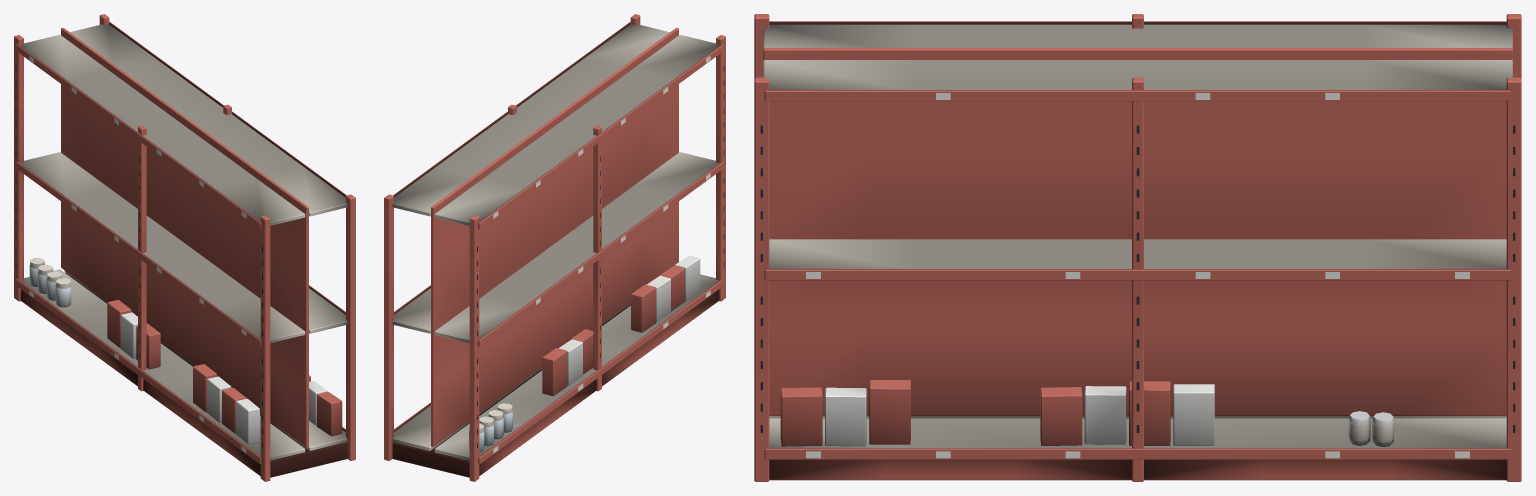
Rendered from shelf_mid.glb.
3 renders of one model, left to right at view 1: azimuth 30°, elevation 25°; view 2: azimuth 150°, elevation 25°; view 3: azimuth 270°, elevation 25°, orthographic. The views are drawn at different scales.
Visible parts, largest first — view 1: PART; view 2: PART; view 3: PART.
Part boxes in pixels (x1,y1,x2,y2): PART: (14,14,355,481); PART: (384,14,725,481); PART: (754,14,1521,481).
Bounding box in the file's own units: 0.563 × 1.5 × 2.6.
